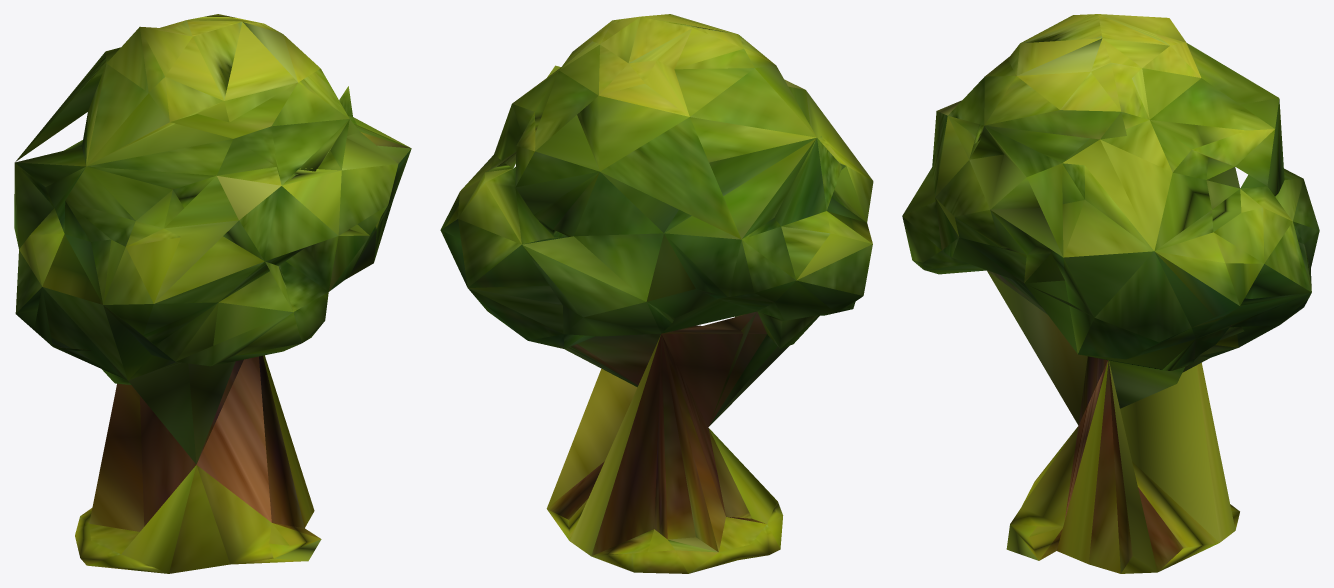
File: oak.glb
3 renders of one model, left to right at view 1: azimuth 30°, elevation 25°; view 2: azimuth 150°, elevation 25°; view 3: azimuth 270°, elevation 25°, orthographic. The views are drawn at different scales.
Visible parts, largest first — view 1: oak; view 2: oak; view 3: oak.
Boxes of the visible parts, <box> form: oak: <box>14,14,411,573</box>; oak: <box>440,14,873,573</box>; oak: <box>902,14,1319,573</box>.
Bounding box in the file's own units: 0.539 × 0.6881 × 0.5148.
Materials: 1 (1 with a texture image).
